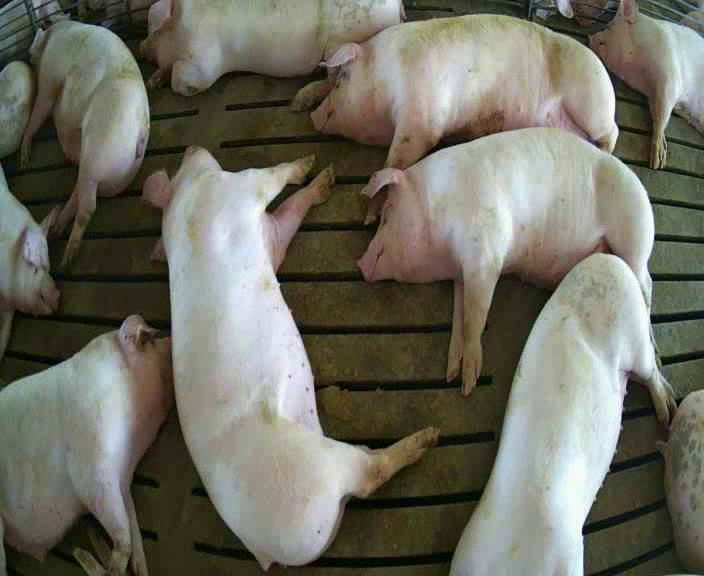pig: (143, 147, 438, 565), (358, 127, 653, 394), (451, 253, 674, 573), (0, 316, 171, 574), (21, 15, 149, 264), (590, 2, 703, 168), (662, 389, 703, 570), (0, 61, 34, 157)
